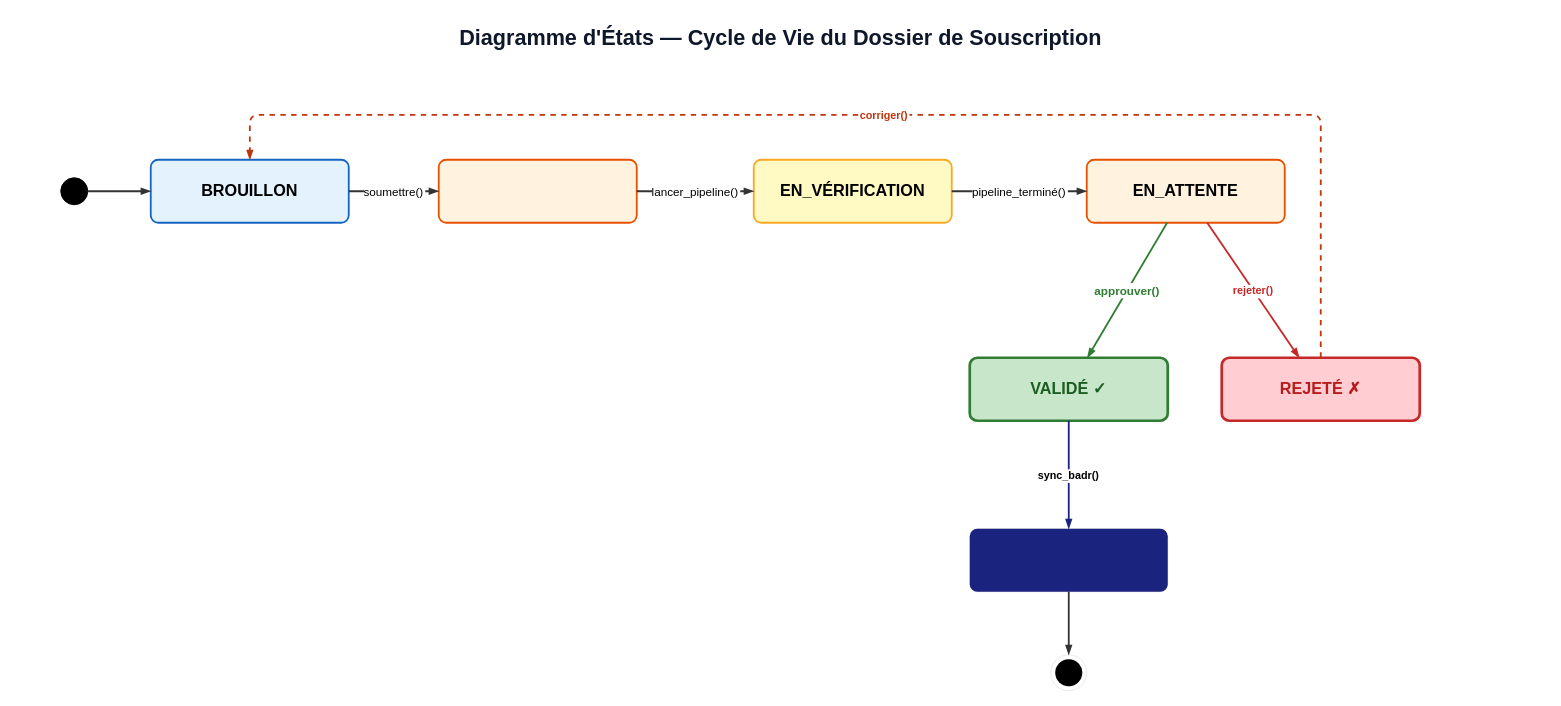
Image size: 1561x706. Some labels were removed from this diagram. The centre of each missing label's shape, as x and y in pixels:
SOUMIS: pixel 537 190
SYNCHRONISÉ (BADR): pixel 1068 559
